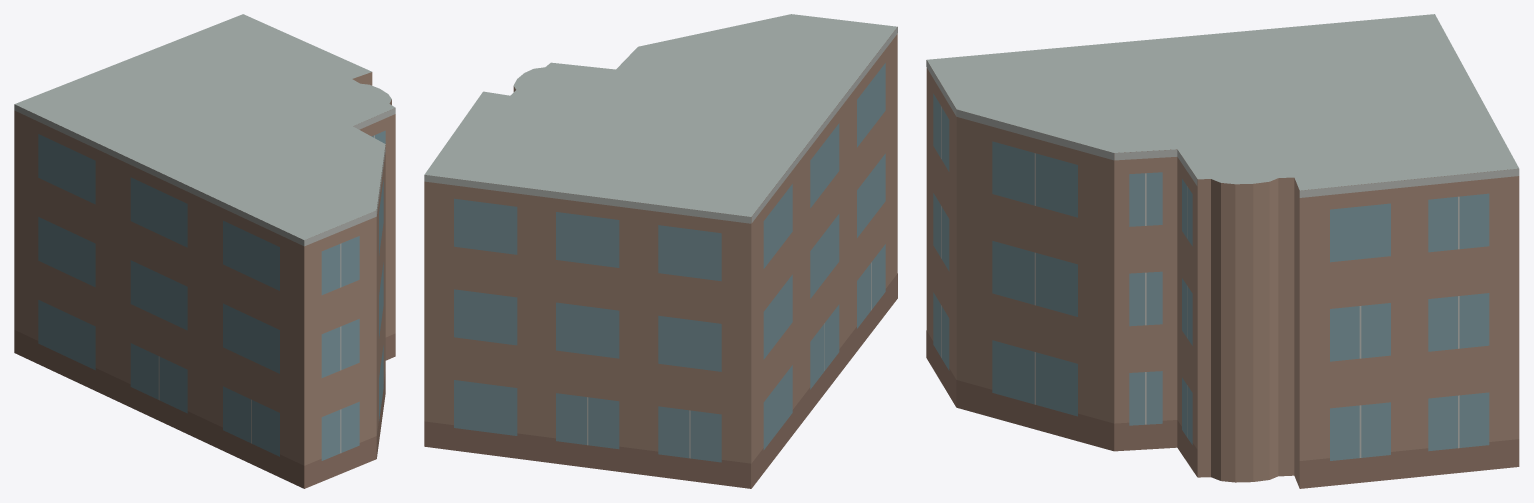
The model's file is survey-upis-32604858.glb.
The picture shows the model from 3 angles, left to right: view 1: azimuth 30°, elevation 25°; view 2: azimuth 150°, elevation 25°; view 3: azimuth 270°, elevation 25°; orthographic projection. The views are drawn at different scales.
Parts seen in each view (by area): view 1: survey-upis-32604858.tmp; view 2: survey-upis-32604858.tmp; view 3: survey-upis-32604858.tmp.
Part boxes in pixels (bbox=[...]): survey-upis-32604858.tmp: bbox=[14, 14, 395, 488]; survey-upis-32604858.tmp: bbox=[424, 14, 897, 488]; survey-upis-32604858.tmp: bbox=[926, 14, 1519, 488].
Size of the model in its own units: 12.45 by 9.8 by 17.66.
